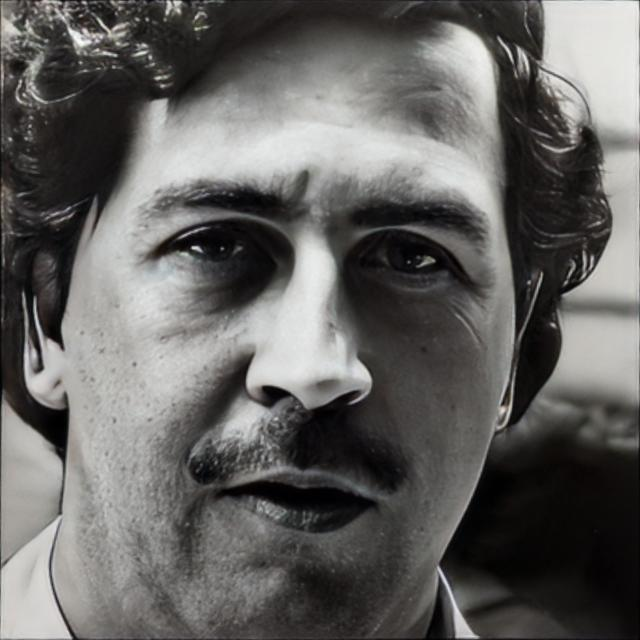neutral: (62, 11, 520, 640)
